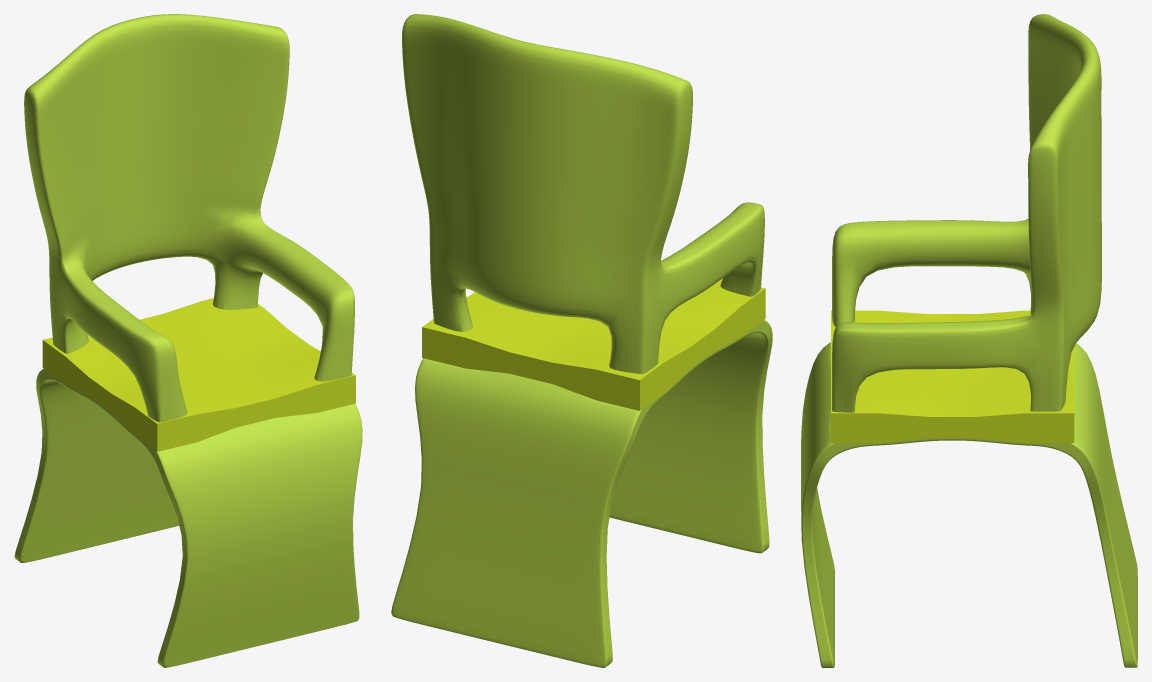
3 views of the same model, side by side, from view 1: azimuth 30°, elevation 25°; view 2: azimuth 150°, elevation 25°; view 3: azimuth 270°, elevation 25° (orthographic). The views are drawn at different scales.
Parts seen in each view (by area): view 1: split_parent_1, Object_2; view 2: split_parent_1, Object_2; view 3: split_parent_1, Object_2.
Boxes of the visible parts, left/top/right/bottom form: split_parent_1: left=14, top=14, right=362, bottom=667; Object_2: left=42, top=298, right=355, bottom=451; split_parent_1: left=391, top=14, right=772, bottom=667; Object_2: left=422, top=278, right=765, bottom=410; split_parent_1: left=801, top=14, right=1137, bottom=667; Object_2: left=831, top=310, right=1074, bottom=442.
Size of the model in its own units: 0.5026 by 1 by 0.5409.
